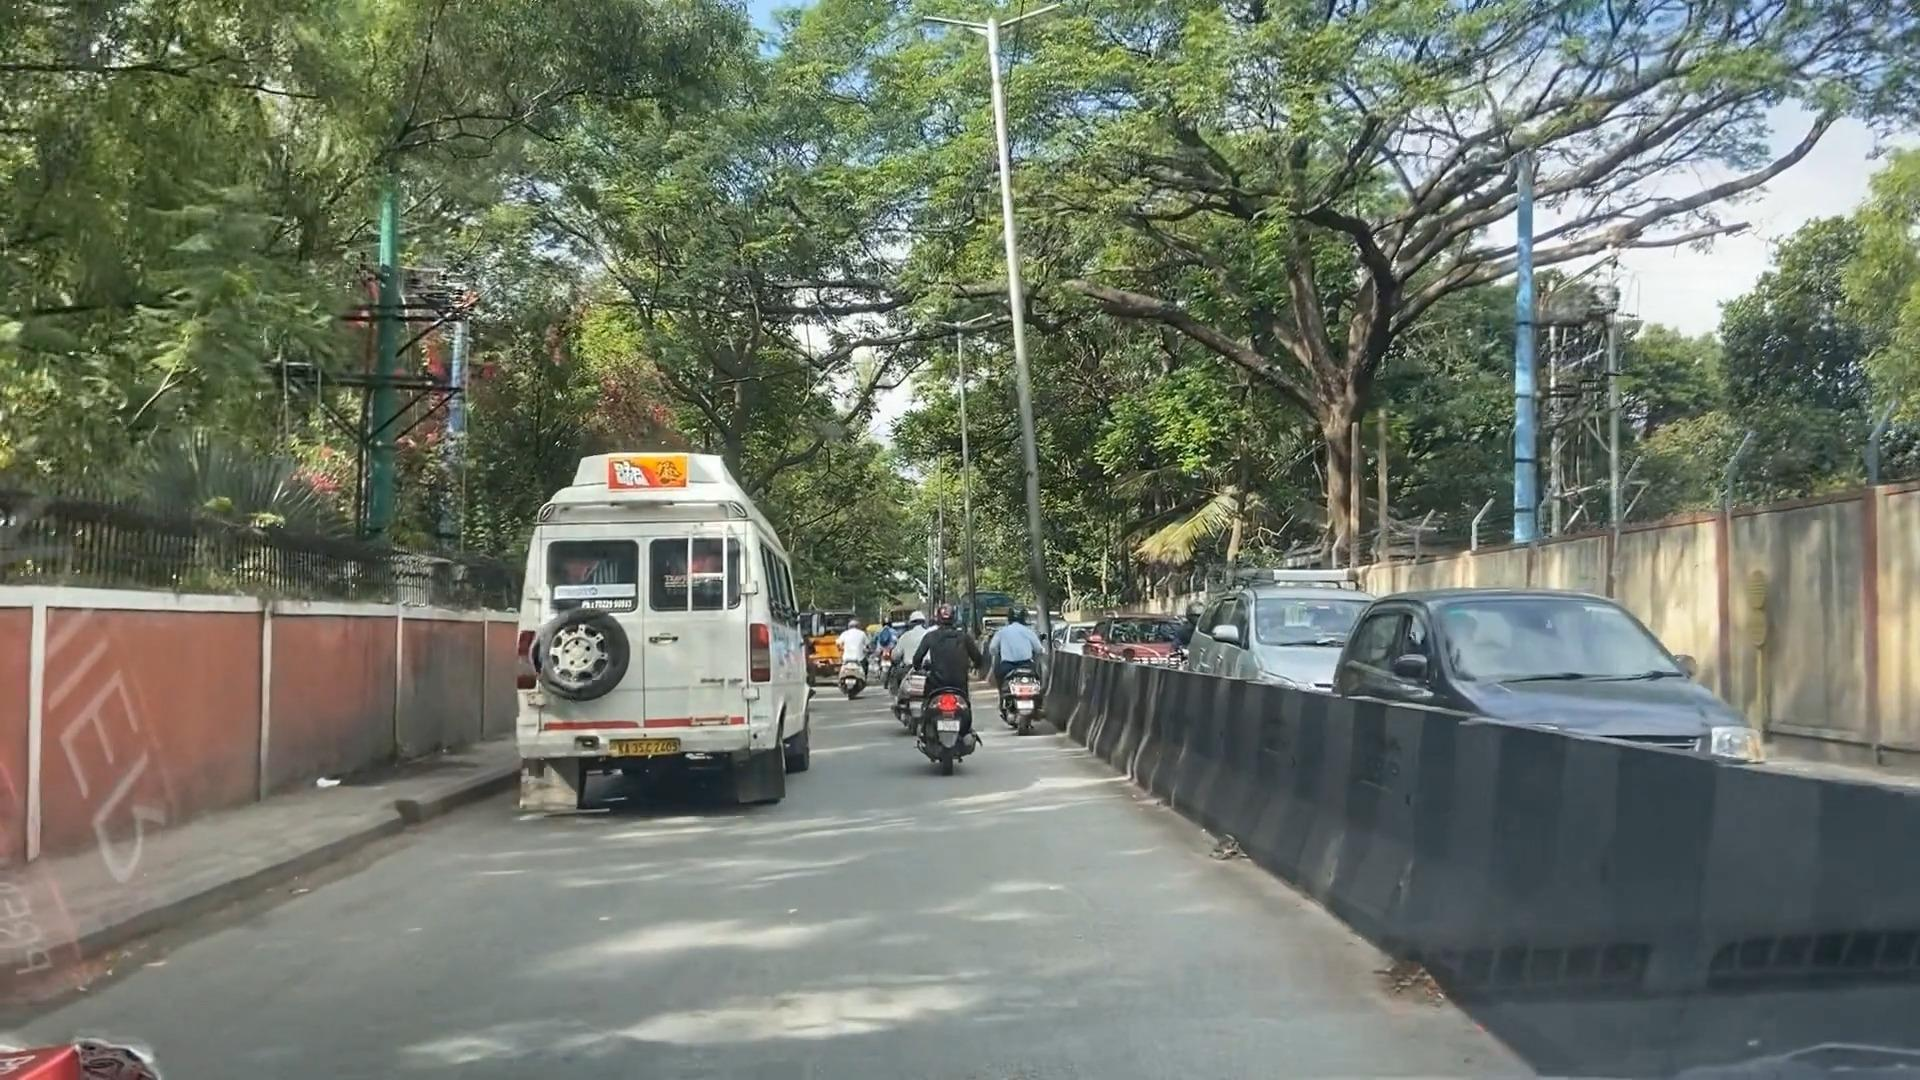LMV: (524, 473, 769, 816), (923, 607, 980, 770), (1007, 607, 1040, 735)
